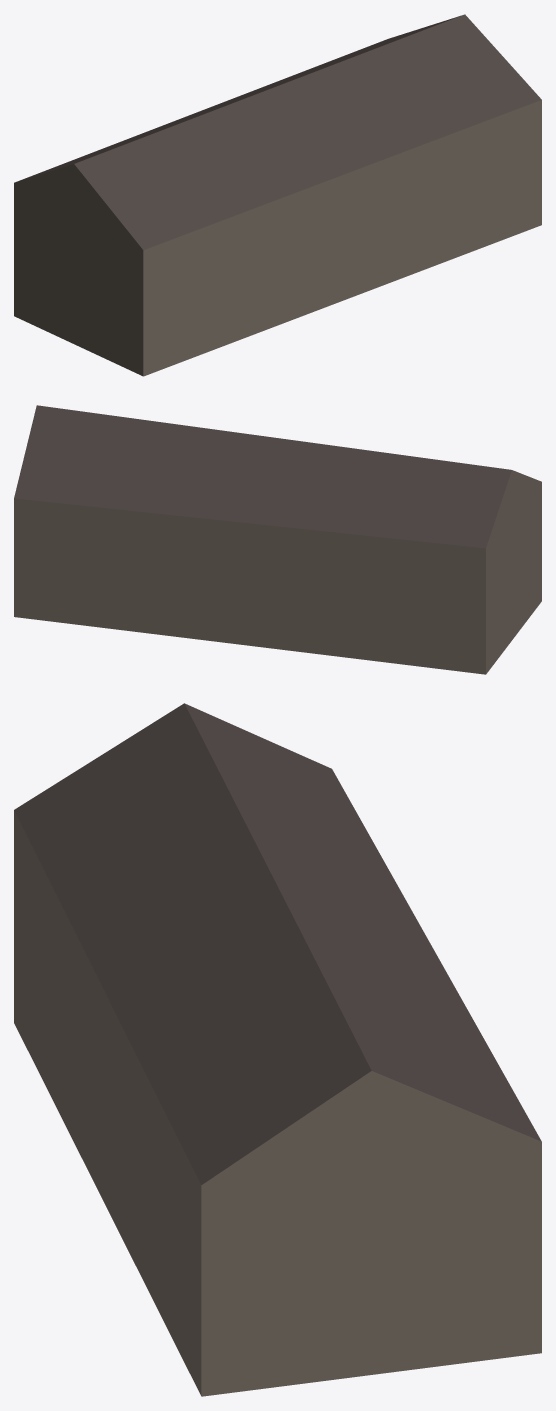
3 renders of one model, top to bottom at view 1: azimuth 30°, elevation 25°; view 2: azimuth 150°, elevation 25°; view 3: azimuth 270°, elevation 25°, orthographic. The views are drawn at different scales.
Visible parts, largest first — view 1: HP-w505649230; view 2: HP-w505649230; view 3: HP-w505649230.
Part boxes in pixels (left/top/right/bottom): HP-w505649230: left=14, top=14, right=541, bottom=376; HP-w505649230: left=14, top=405, right=541, bottom=674; HP-w505649230: left=14, top=703, right=541, bottom=1396.
Bounding box in the file's own units: 24.52 × 8.63 × 13.58.
